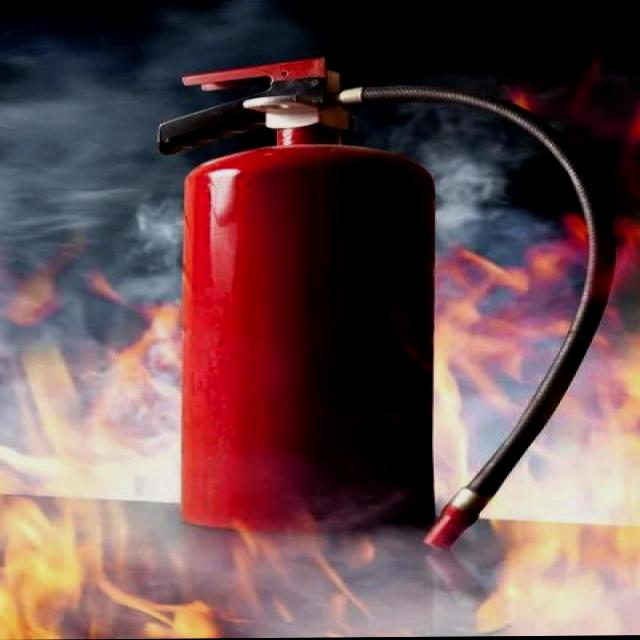FireExtinguisher: (146, 51, 625, 563)
